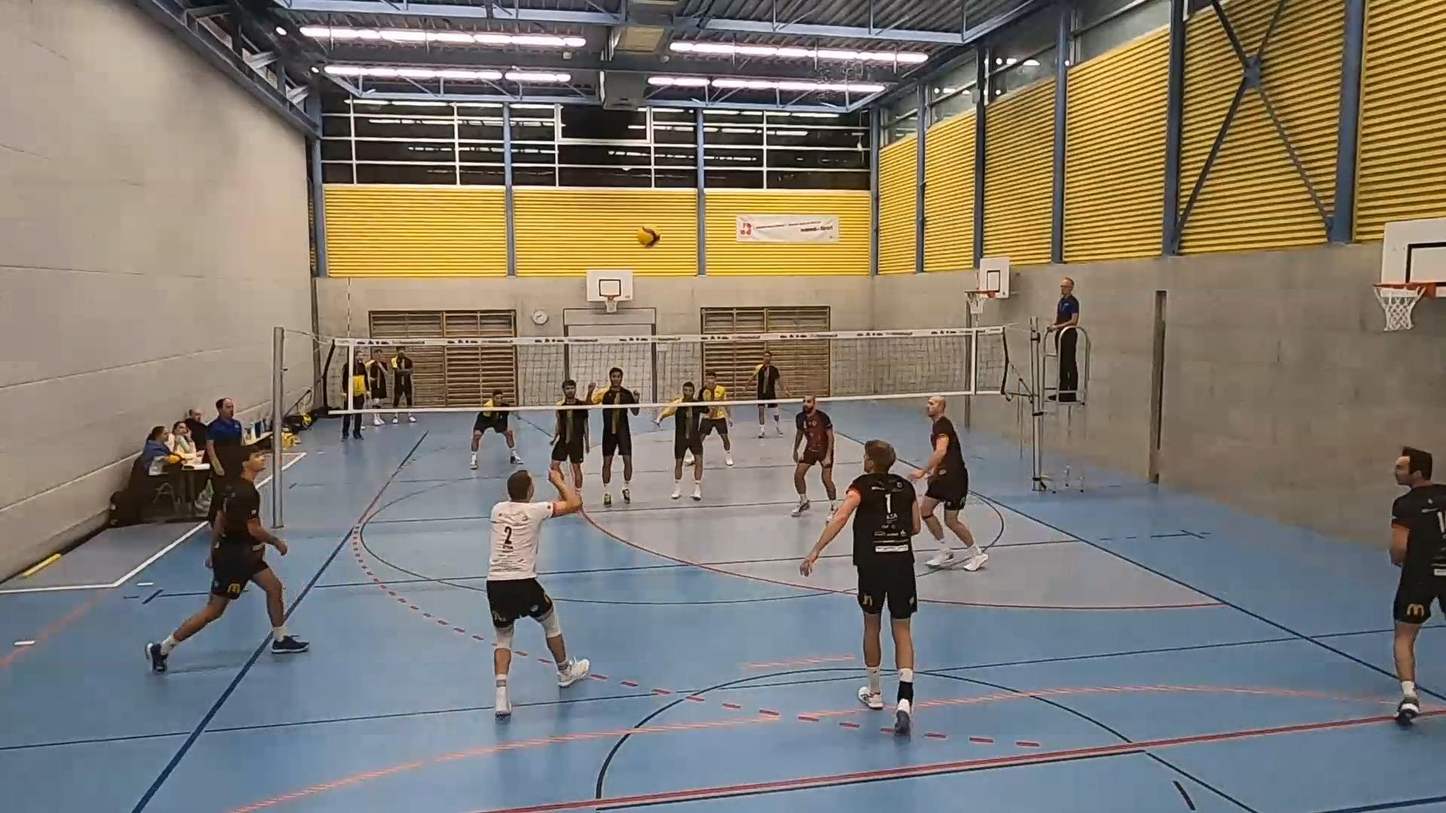ricezione: (483, 464, 588, 725)
